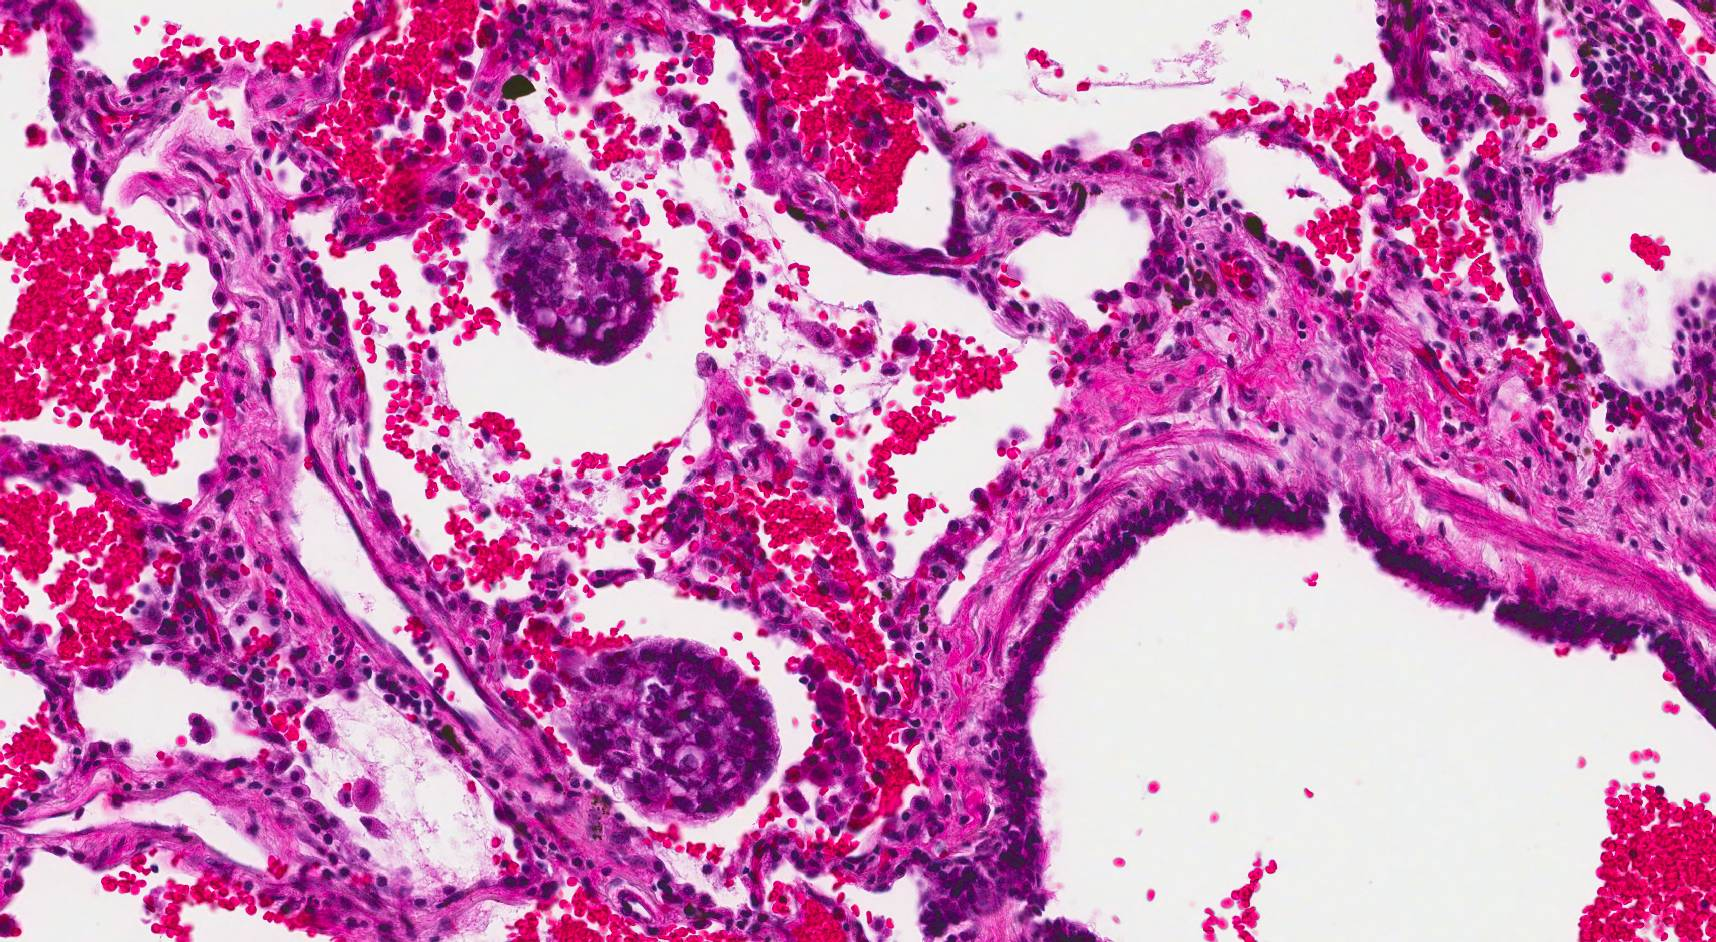stas: (569, 637, 774, 822), (495, 221, 657, 366)
